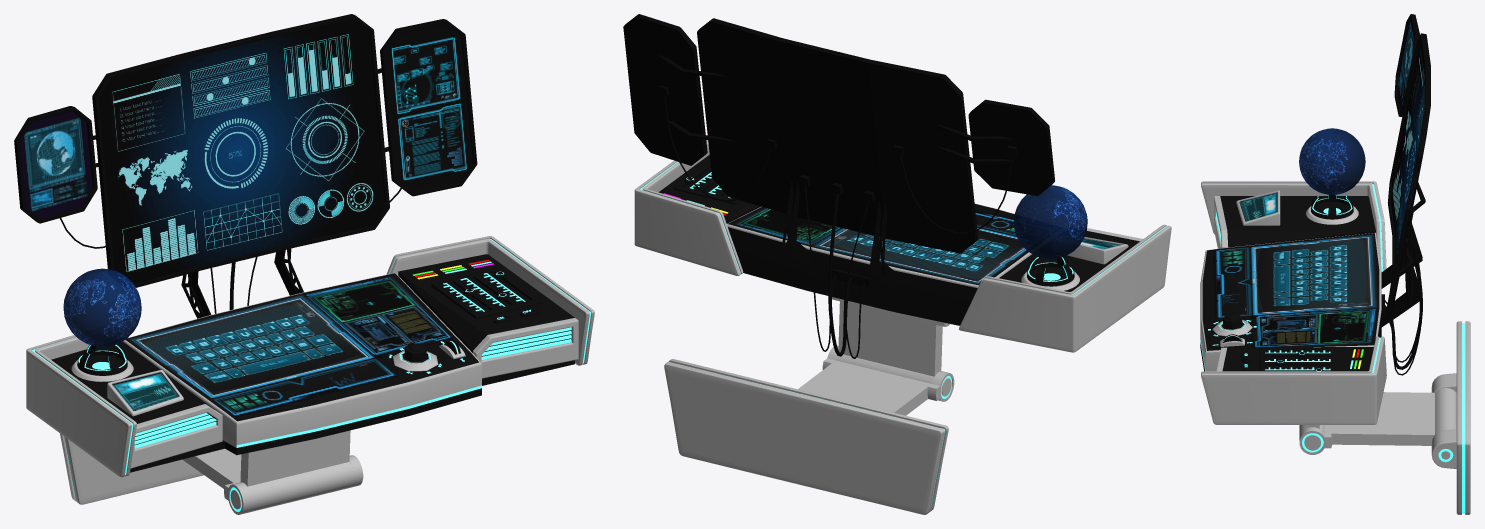
File: Sci-Fi Control Panel.fbx
3 views of the same model, side by side, from view 1: azimuth 30°, elevation 25°; view 2: azimuth 150°, elevation 25°; view 3: azimuth 270°, elevation 25° (orthographic). The views are drawn at different scales.
Visible parts, largest first — view 1: Object001, Plane001, Object006, Cylinder003, Object003, Sphere001, Plane012, Object005, Plane014, Sphere002, Object008, Plane005 (+1 smaller); view 2: Object001, Cylinder003, Object003, Plane001, Sphere001, Box001, Object006, Plane004, Sphere002, Plane005, Plane006, Plane012 (+1 smaller); view 3: Plane001, Object003, Cylinder003, Object001, Object006, Sphere001, Plane012, Box001, Plane014, Sphere002, Plane006, Object008 (+2 smaller).
Boxes of the visible parts, <box> form: Object001: <box>14,14,477,287</box>; Plane001: <box>123,273,574,472</box>; Object006: <box>51,254,578,468</box>; Cylinder003: <box>60,430,363,514</box>; Object003: <box>26,236,594,477</box>; Sphere001: <box>63,268,141,346</box>; Plane012: <box>431,268,542,319</box>; Object005: <box>134,327,571,448</box>; Plane014: <box>107,370,183,416</box>; Sphere002: <box>71,344,133,381</box>; Object008: <box>393,343,438,371</box>; Plane005: <box>181,271,211,318</box>; Object001: <box>623,14,1054,253</box>; Cylinder003: <box>664,297,954,514</box>; Object003: <box>634,140,1171,352</box>; Plane001: <box>727,203,1031,325</box>; Sphere001: <box>1014,185,1087,259</box>; Box001: <box>659,85,1016,358</box>; Object006: <box>658,155,1142,291</box>; Plane004: <box>657,54,1014,163</box>; Sphere002: <box>1021,257,1079,290</box>; Plane005: <box>869,202,898,288</box>; Plane006: <box>781,181,810,267</box>; Plane012: <box>673,161,740,204</box>; Plane001: <box>1200,232,1381,371</box>; Object003: <box>1201,181,1386,424</box>; Cylinder003: <box>1299,321,1470,514</box>; Object001: <box>1384,14,1430,320</box>; Object006: <box>1214,196,1375,371</box>; Sphere001: <box>1299,128,1365,194</box>; Plane012: <box>1259,349,1335,371</box>; Box001: <box>1381,212,1422,375</box>; Plane014: <box>1236,190,1280,225</box>; Sphere002: <box>1306,194,1358,224</box>; Plane006: <box>1381,251,1422,327</box>; Object008: <box>1212,313,1252,336</box>.
Size of the model in its own units: 130 by 118 by 76.46.
Materials: 14 (6 with a texture image).
